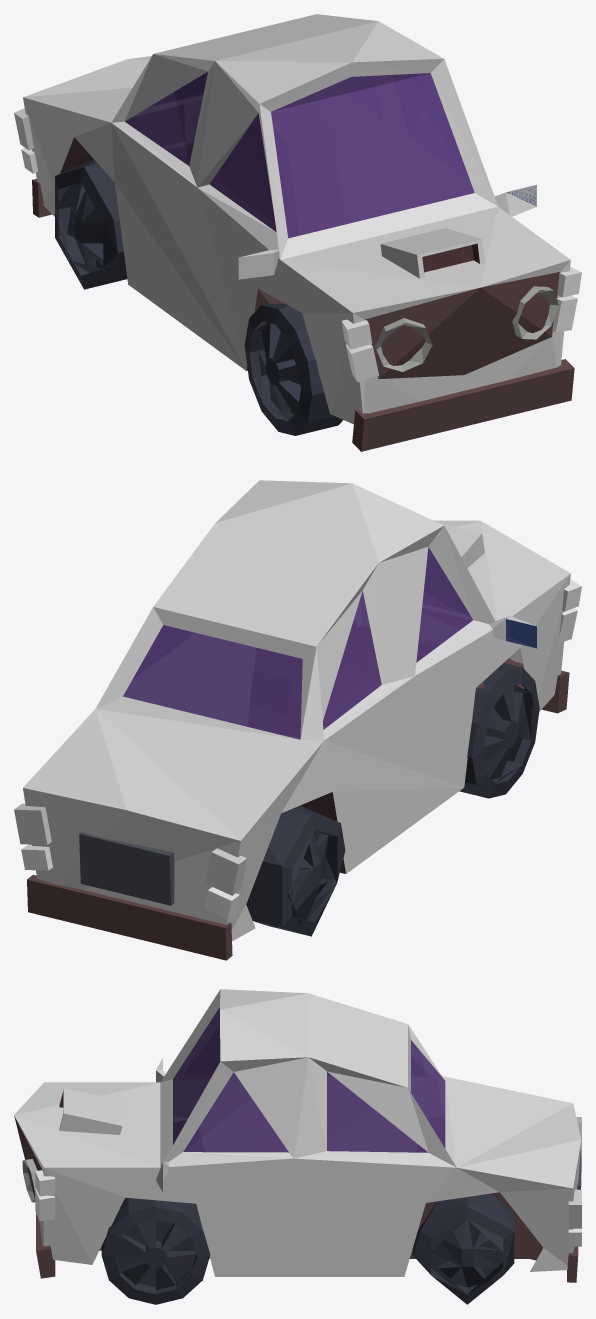
Rendered from coche.glb.
3 renders of one model, top to bottom at view 1: azimuth 30°, elevation 25°; view 2: azimuth 150°, elevation 25°; view 3: azimuth 270°, elevation 25°, orthographic. The views are drawn at different scales.
Parts seen in each view (by area): view 1: Cube, Cylinder, Cube.007, Cylinder.002, Cube.012, Cylinder.001, Cube.003, Cube.011, Cube.004; view 2: Cube, Cylinder.002, Cylinder, Cube.010, Cube.009, Cube.005, Cube.006, Cube.003, Cube.012, Cube.007; view 3: Cube, Cylinder.003, Cylinder.002, Cube.012, Cube.007, Cube.005, Cube.011, Cube.004, Cylinder.001.
Boxes of the visible parts, x1,y1,x2,y2 form: Cube: (23,14,570,424); Cylinder: (244,303,342,435); Cube.007: (352,359,574,451); Cylinder.002: (55,159,127,289); Cube.012: (380,228,484,278); Cylinder.001: (375,286,558,371); Cube.003: (238,185,536,279); Cube.011: (346,295,577,382); Cube.004: (341,267,581,349); Cube: (23,480,570,941); Cylinder.002: (246,805,345,936); Cylinder: (459,663,539,798); Cube.010: (27,874,232,960); Cube.009: (79,832,174,905); Cube.005: (14,803,246,895); Cube.006: (21,844,239,919); Cube.003: (489,615,536,648); Cube.012: (439,523,484,568); Cube.007: (515,661,569,713); Cube: (14,989,581,1276); Cylinder.003: (101,1198,210,1304); Cylinder.002: (413,1194,514,1304); Cube.012: (59,1088,122,1134); Cube.007: (36,1213,55,1278); Cube.005: (568,1117,581,1228); Cube.011: (35,1189,55,1221); Cube.004: (35,1170,55,1196); Cylinder.001: (22,1159,37,1202).
Size of the model in its own units: 2.74 by 2.74 by 5.63.
2 materials, 2 textured.
